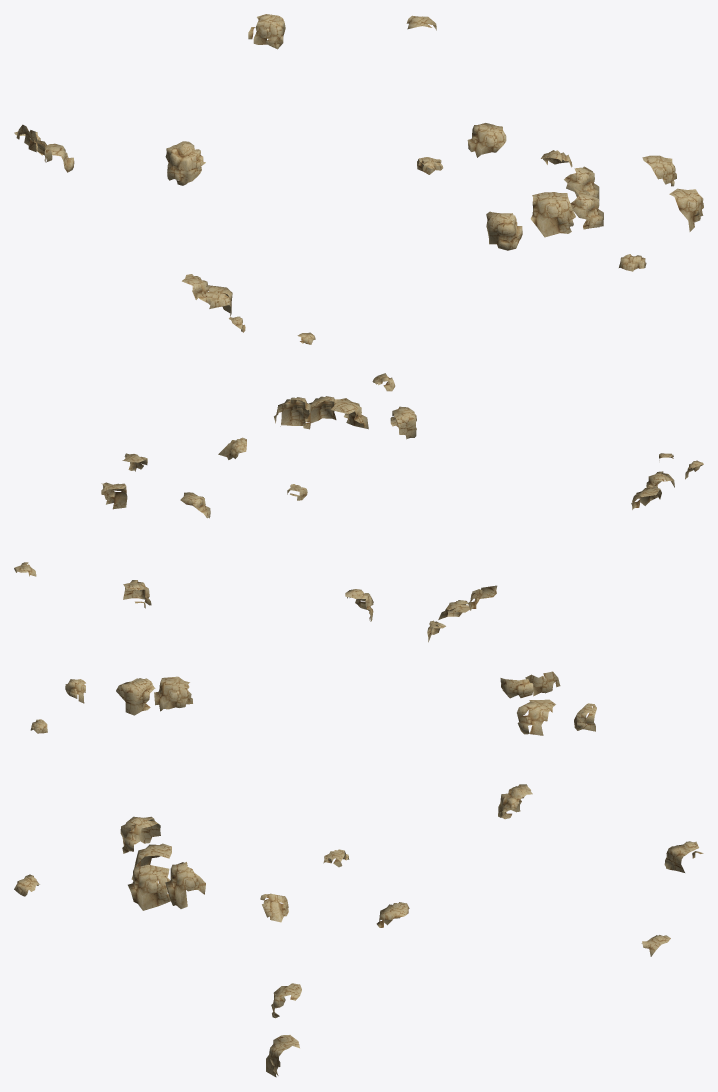
File: S_Rock_Yellow058_A.FBX
3 views of the same model, one above another, from view 1: azimuth 30°, elevation 25°; view 2: azimuth 150°, elevation 25°; view 3: azimuth 270°, elevation 25° (orthographic). The views are drawn at different scales.
Visible parts, largest first — view 1: S_Rock_Yellow058_015, S_Rock_Yellow058_009, S_Rock_Yellow058_014, S_Rock_Yellow058_012, S_Rock_Yellow058_010, S_Rock_Yellow058_016, S_Rock_Yellow058_020, S_Rock_Yellow058_017, S_Rock_Yellow058_019, S_Rock_Yellow058_002; view 2: S_Rock_Yellow058_017, S_Rock_Yellow058_014, S_Rock_Yellow058_015, S_Rock_Yellow058_016, S_Rock_Yellow058_020, S_Rock_Yellow058_010; view 3: S_Rock_Yellow058_016, S_Rock_Yellow058_017, S_Rock_Yellow058_001, S_Rock_Yellow058_014, S_Rock_Yellow058_007, S_Rock_Yellow058_002, S_Rock_Yellow058_009, S_Rock_Yellow058_020, S_Rock_Yellow058_010.
Boxes of the visible parts, x1,y1,x2,y2 form: S_Rock_Yellow058_015: (530, 192, 575, 237); S_Rock_Yellow058_009: (165, 141, 205, 185); S_Rock_Yellow058_014: (486, 211, 522, 250); S_Rock_Yellow058_012: (467, 123, 506, 157); S_Rock_Yellow058_010: (248, 14, 285, 49); S_Rock_Yellow058_016: (570, 188, 603, 229); S_Rock_Yellow058_020: (669, 188, 703, 231); S_Rock_Yellow058_017: (564, 166, 599, 200); S_Rock_Yellow058_019: (642, 155, 676, 186); S_Rock_Yellow058_002: (205, 285, 232, 316); S_Rock_Yellow058_017: (274, 397, 311, 426); S_Rock_Yellow058_014: (390, 406, 416, 439); S_Rock_Yellow058_015: (331, 398, 368, 429); S_Rock_Yellow058_016: (303, 396, 336, 429); S_Rock_Yellow058_020: (101, 482, 127, 509); S_Rock_Yellow058_010: (123, 580, 151, 608); S_Rock_Yellow058_016: (128, 864, 170, 910); S_Rock_Yellow058_017: (165, 862, 205, 908); S_Rock_Yellow058_001: (154, 676, 192, 711); S_Rock_Yellow058_014: (120, 816, 160, 853); S_Rock_Yellow058_007: (517, 699, 555, 735); S_Rock_Yellow058_002: (116, 678, 155, 715); S_Rock_Yellow058_009: (498, 784, 532, 819); S_Rock_Yellow058_020: (266, 1035, 299, 1077); S_Rock_Yellow058_010: (664, 841, 703, 872).
Bounding box in the file's own units: 18243 × 4095 × 18572.
